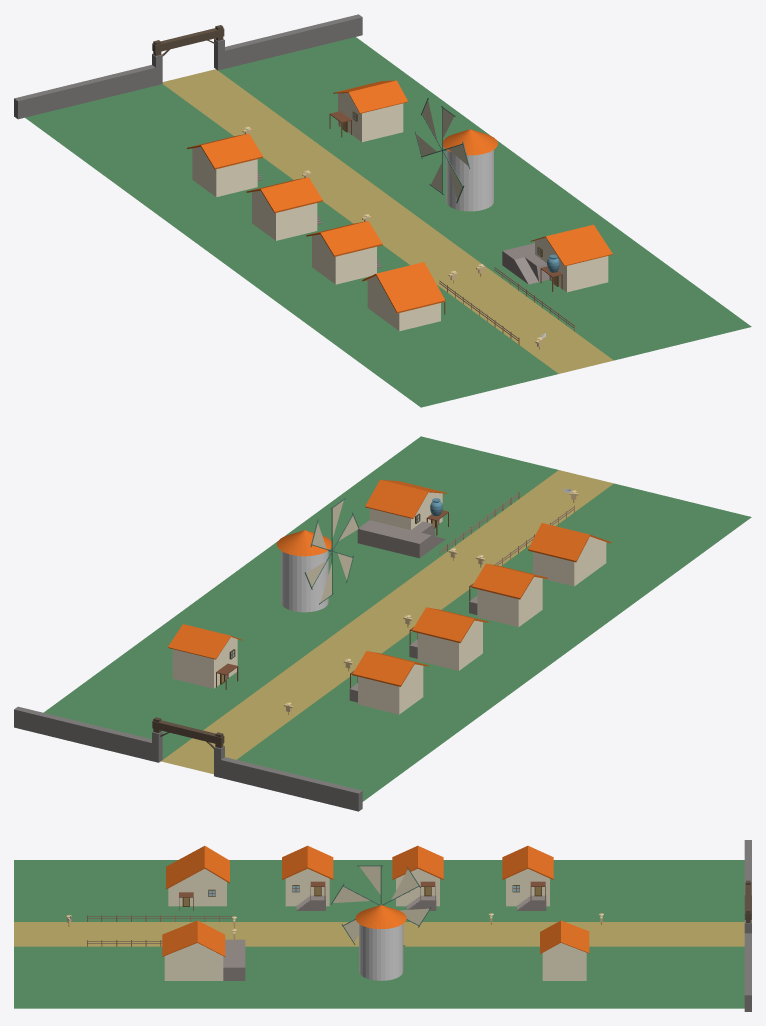
Rendered from Town.fbx.
3 views of the same model, one above another, from view 1: azimuth 30°, elevation 25°; view 2: azimuth 150°, elevation 25°; view 3: azimuth 270°, elevation 25° (orthographic). The views are drawn at different scales.
Visible parts, largest first — view 1: Gate, Windmill, Roof.005, House2.002, House2.001, House2, House1, Roof.006, House2.003, Shop, Roof.004, Roof.002 (+5 smaller); view 2: Gate, Windmill, Slope, House2.002, House2.001, House2, House2.003, House1, Roof.006, Roof.005, Roof.002, Roof.003 (+5 smaller); view 3: Windmill, Shop, House2.003, Roof.005, House1, Roof.006, Roof.003, Roof.004, Roof.002, Gate, Roof.001, House2 (+227 smaller).
Boxes of the visible parts, bbox=[...] form: Gate: bbox=[14, 14, 362, 119]; Windmill: bbox=[446, 150, 493, 211]; Roof.005: bbox=[362, 262, 445, 313]; House2.002: bbox=[192, 147, 257, 197]; House2.001: bbox=[252, 190, 317, 240]; House2: bbox=[312, 234, 376, 284]; House1: bbox=[338, 93, 403, 142]; Roof.006: bbox=[530, 224, 612, 266]; House2.003: bbox=[367, 276, 440, 331]; Shop: bbox=[535, 237, 608, 292]; Roof.004: bbox=[306, 221, 382, 256]; Roof.002: bbox=[246, 177, 322, 213]; Gate: bbox=[14, 706, 362, 811]; Windmill: bbox=[281, 551, 328, 612]; Slope: bbox=[357, 520, 445, 558]; House2.002: bbox=[358, 664, 423, 714]; House2.001: bbox=[417, 620, 482, 670]; House2: bbox=[477, 577, 542, 627]; House2.003: bbox=[533, 536, 606, 586]; House1: bbox=[172, 637, 237, 688]; Roof.006: bbox=[365, 479, 447, 518]; Roof.005: bbox=[528, 523, 611, 562]; Roof.002: bbox=[412, 607, 488, 643]; Roof.003: bbox=[352, 651, 428, 686]; Windmill: bbox=[359, 924, 403, 980]; Shop: bbox=[164, 943, 223, 980]; House2.003: bbox=[168, 869, 226, 906]; Roof.005: bbox=[166, 845, 229, 889]; House1: bbox=[542, 943, 586, 980]; Roof.006: bbox=[162, 920, 225, 956]; Roof.003: bbox=[502, 845, 553, 879]; Roof.004: bbox=[282, 845, 333, 879]; Roof.002: bbox=[392, 845, 443, 879]; Gate: bbox=[744, 840, 751, 1011]; Roof.001: bbox=[540, 920, 589, 953]; House2: bbox=[285, 868, 329, 906].
Bounding box in the file's own units: 5000 × 1410 × 10050.
